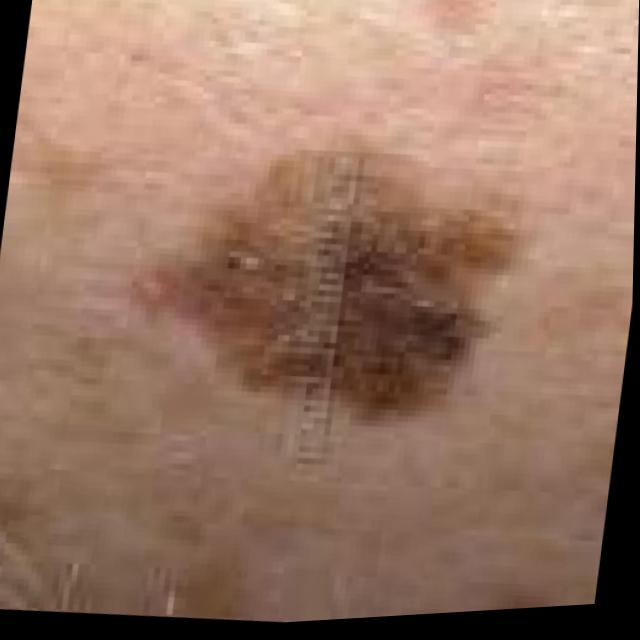Melasma: (219, 201, 467, 408)
